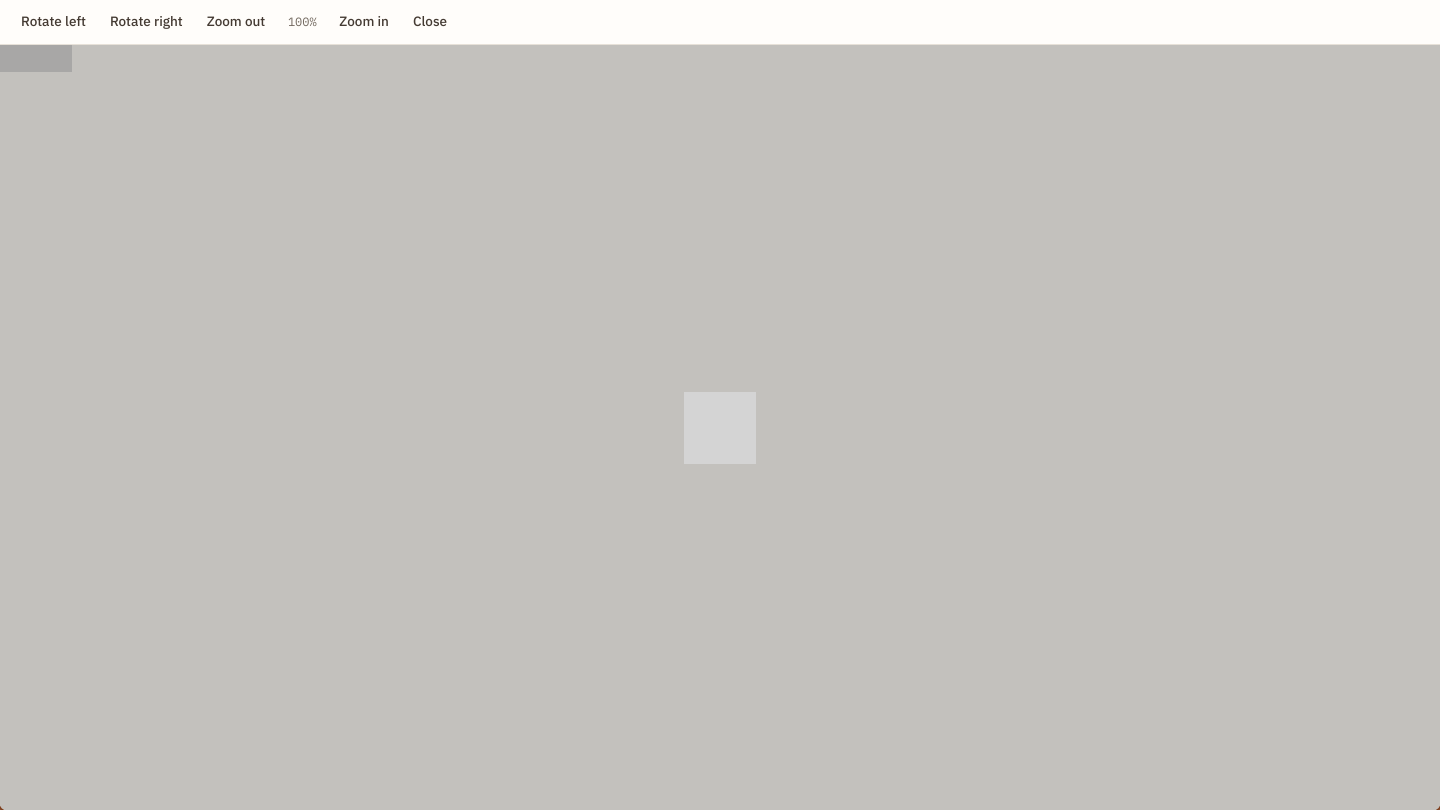
Scenario: SafeImage viewer › stops at the largest zoom and closes from the backdrop
Earlier steps of the test are not shown.
Step 1. Click the button "Zoom in" → (364, 22), box [330,10,398,34]
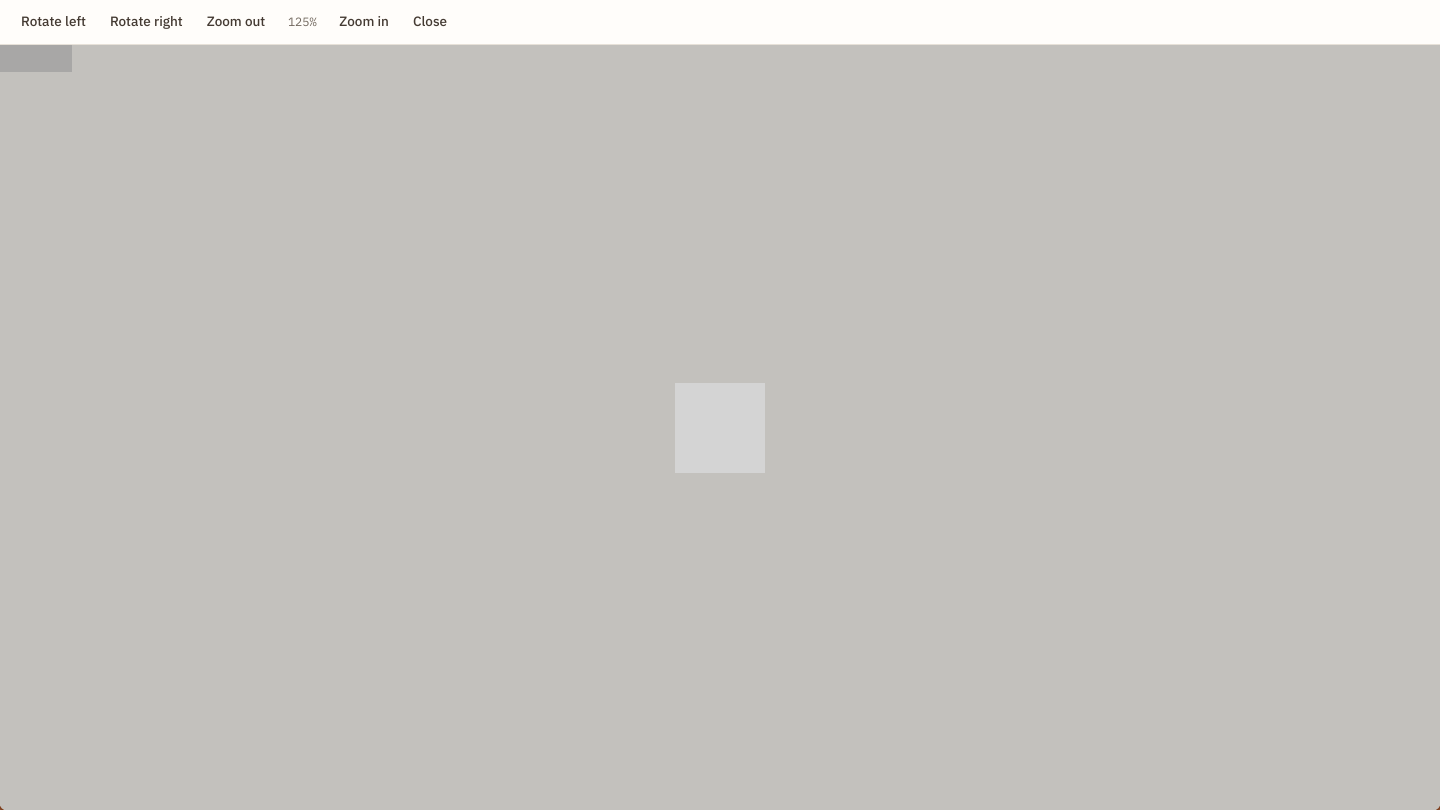
Step 2. Click the button "Zoom in" → (364, 22), box [330,10,398,34]
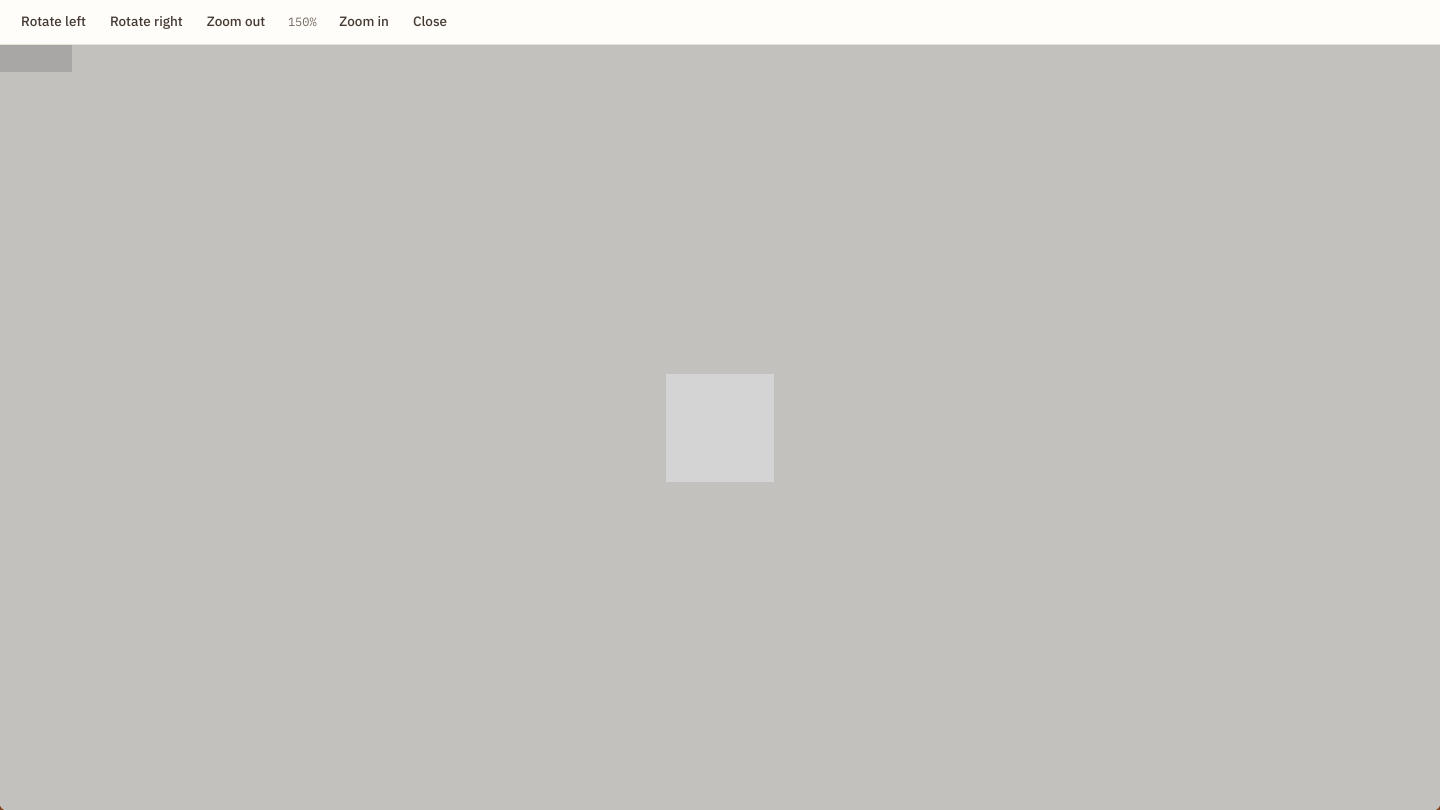
Step 3. Click the button "Zoom in" → (364, 22), box [330,10,398,34]
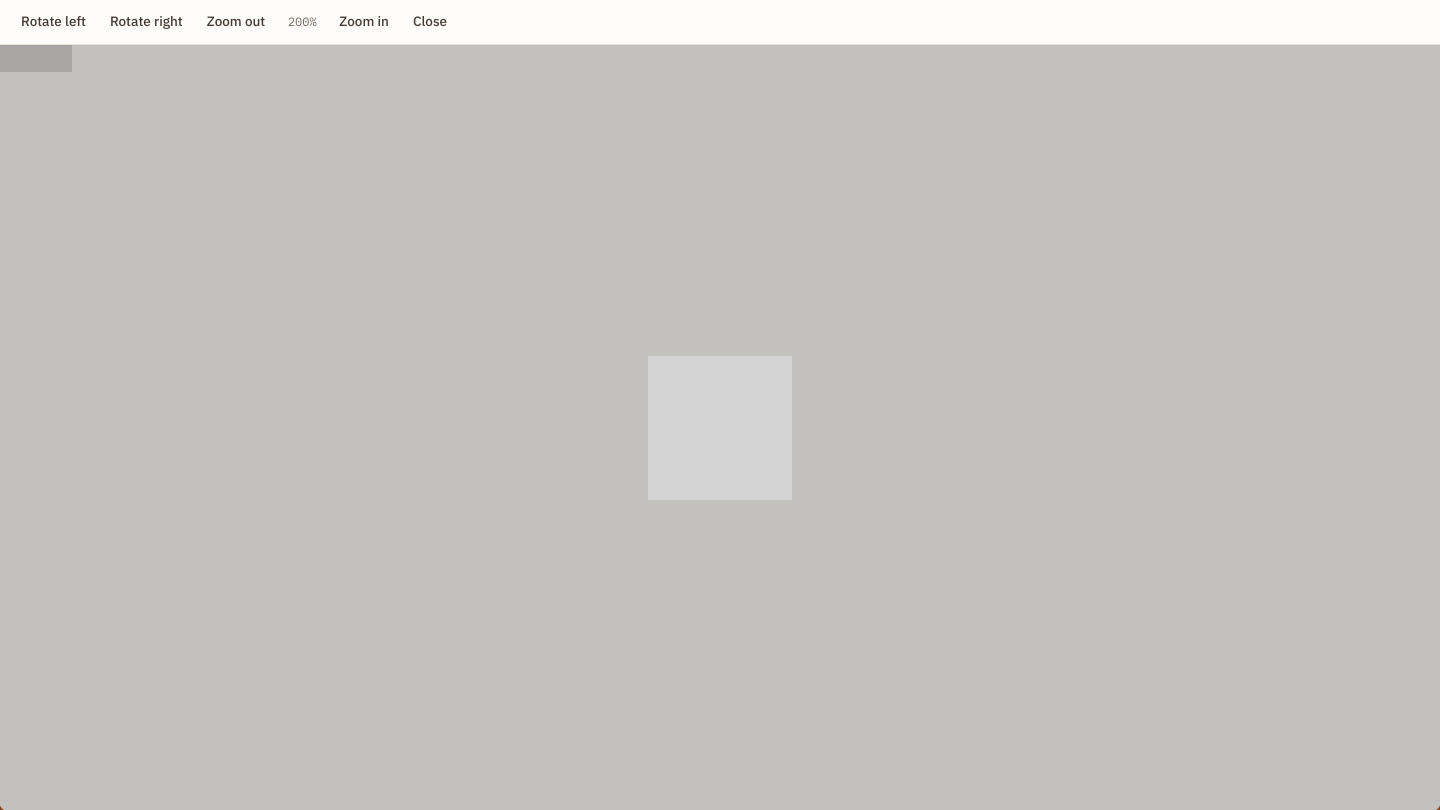
Step 4. Click the button "Zoom in" → (364, 22), box [330,10,398,34]
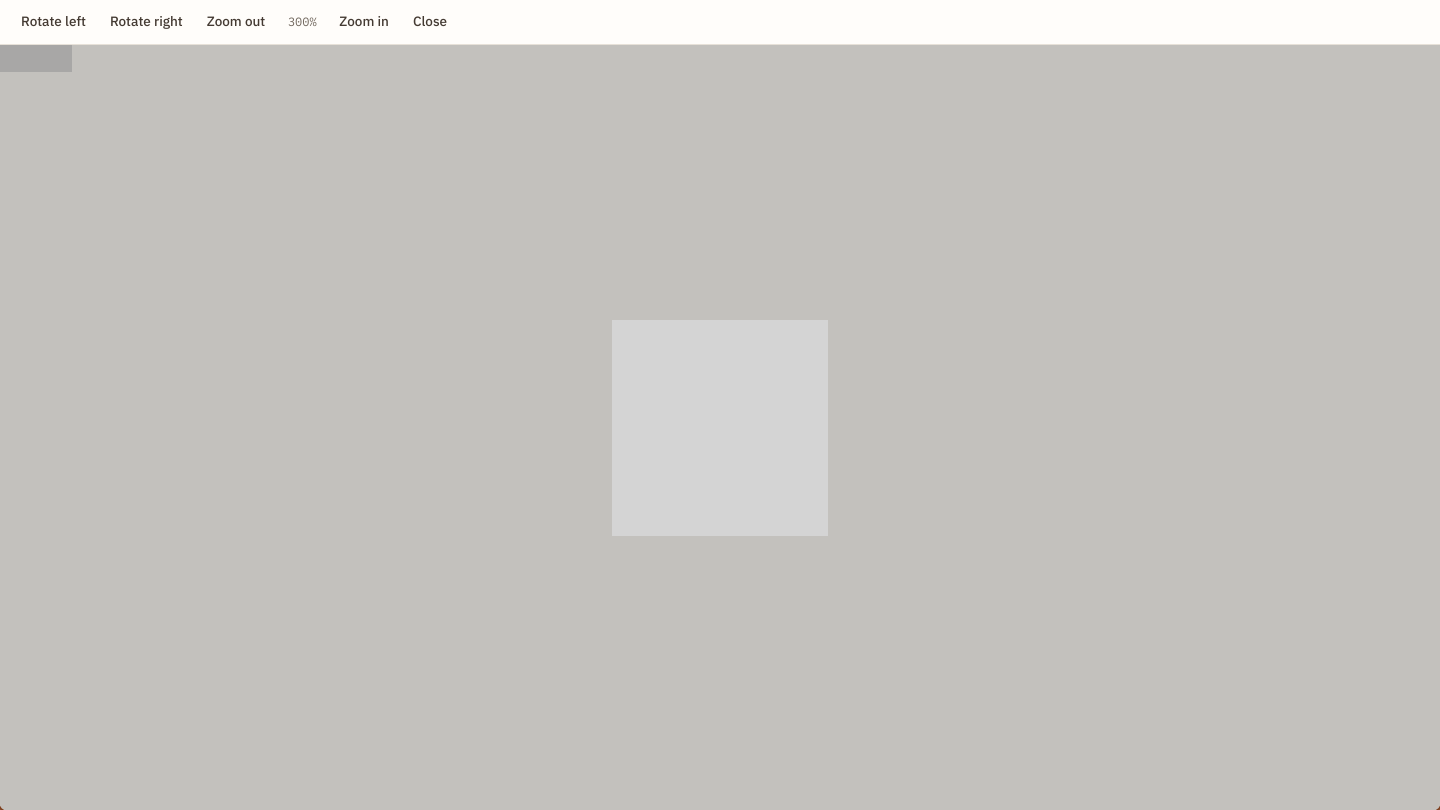
Step 5. Click the button "Zoom in" → (364, 22), box [330,10,398,34]
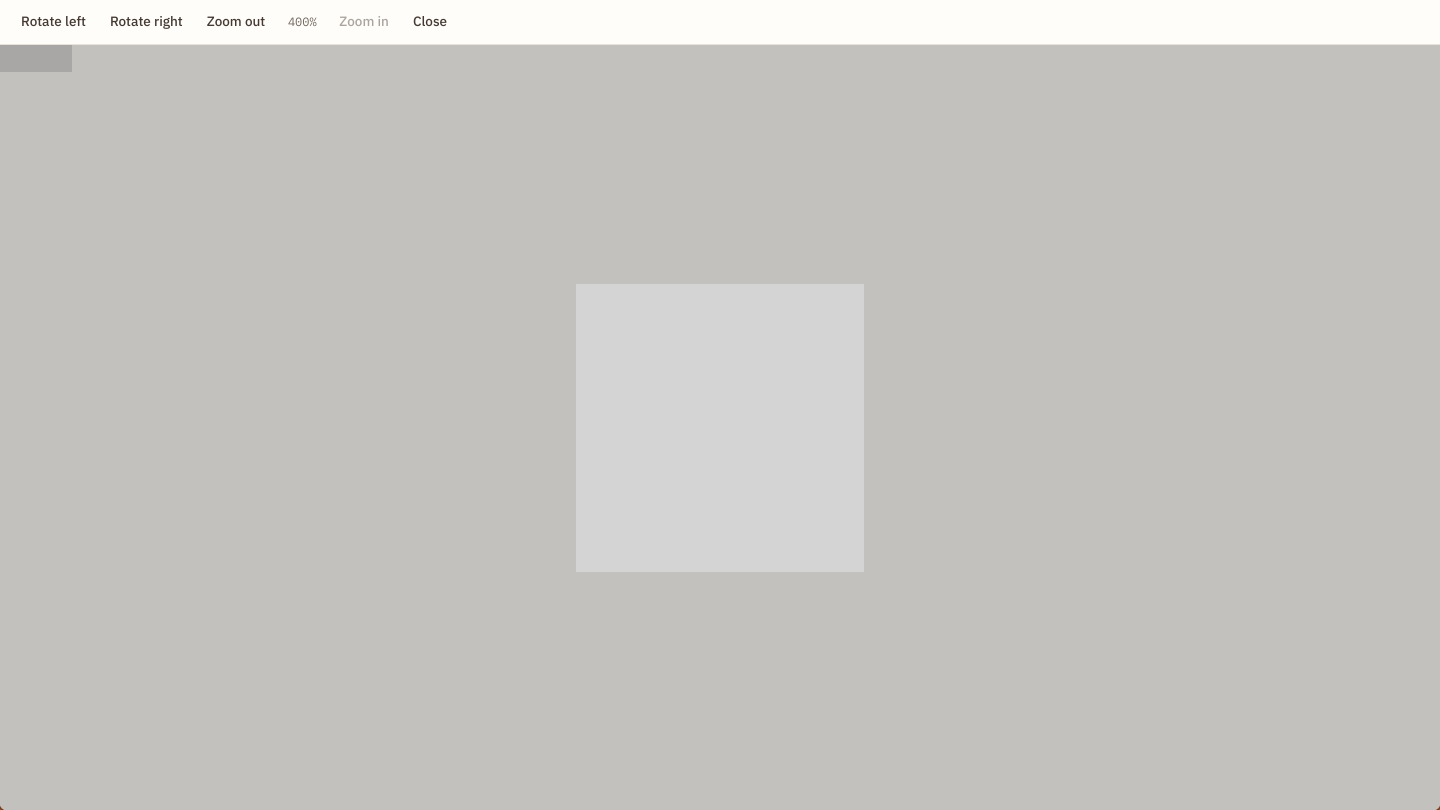
Expected: the button "Zoom in" is disabled, [330,10,398,34]
Step 6. Click the button named "Close image" → (86, 405), box [0,0,1439,809]
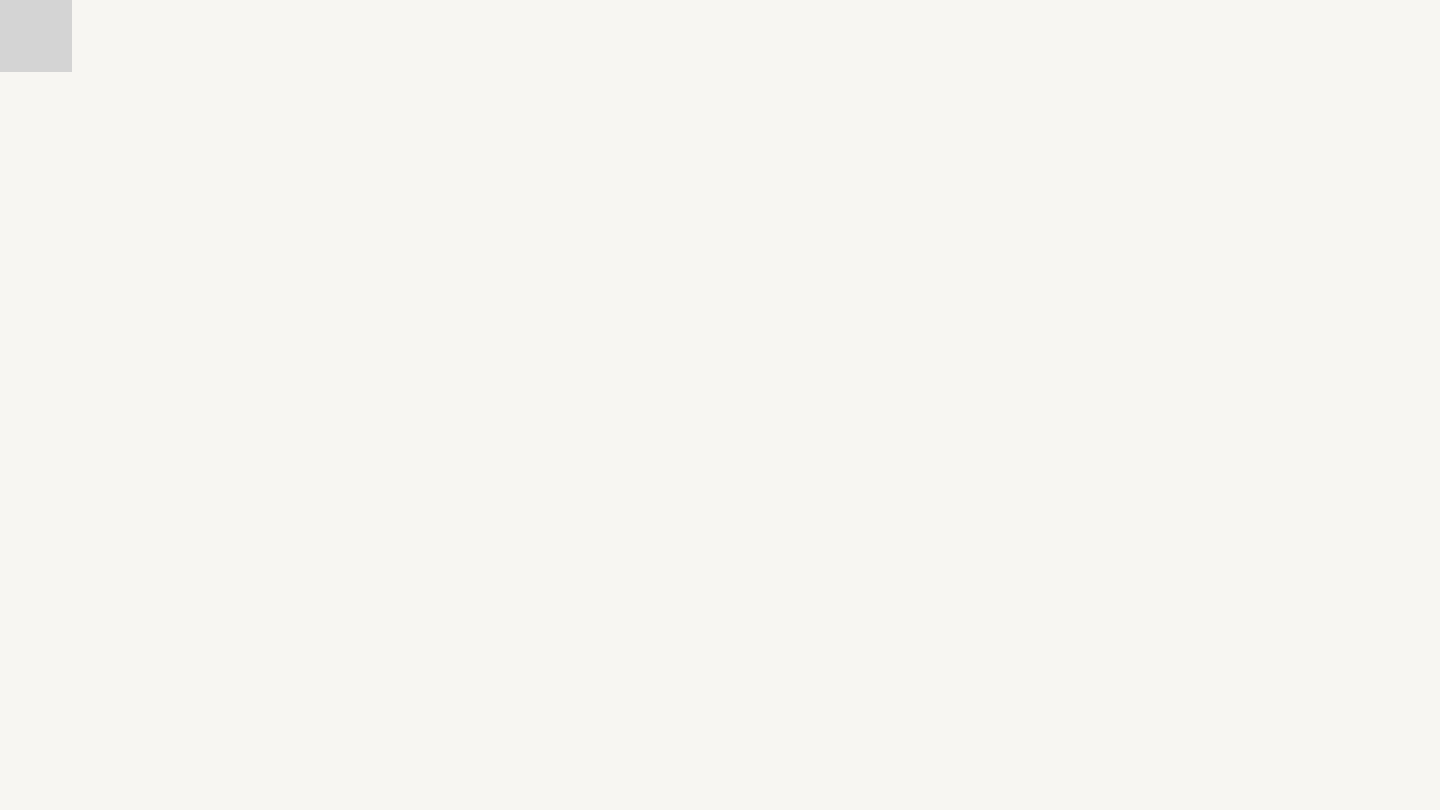
Expected: the dialog is gone
